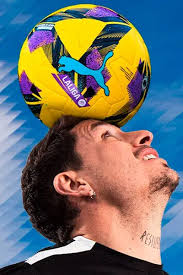football ball: (15, 4, 152, 131)
